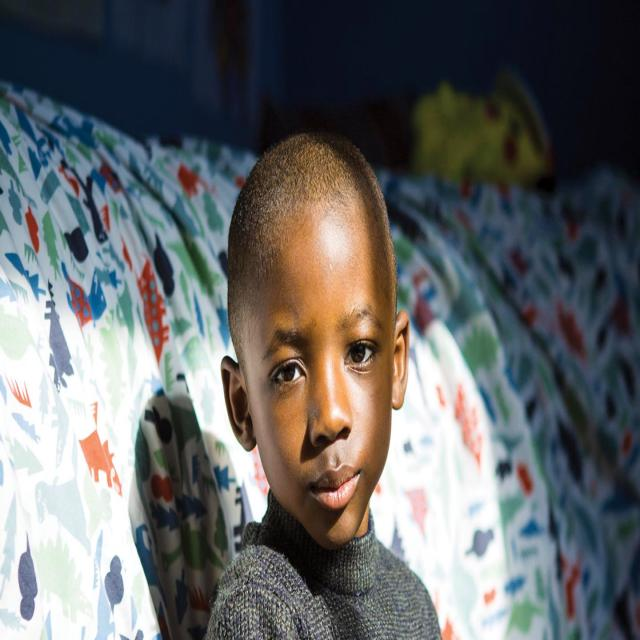child: (203, 135, 445, 640)
